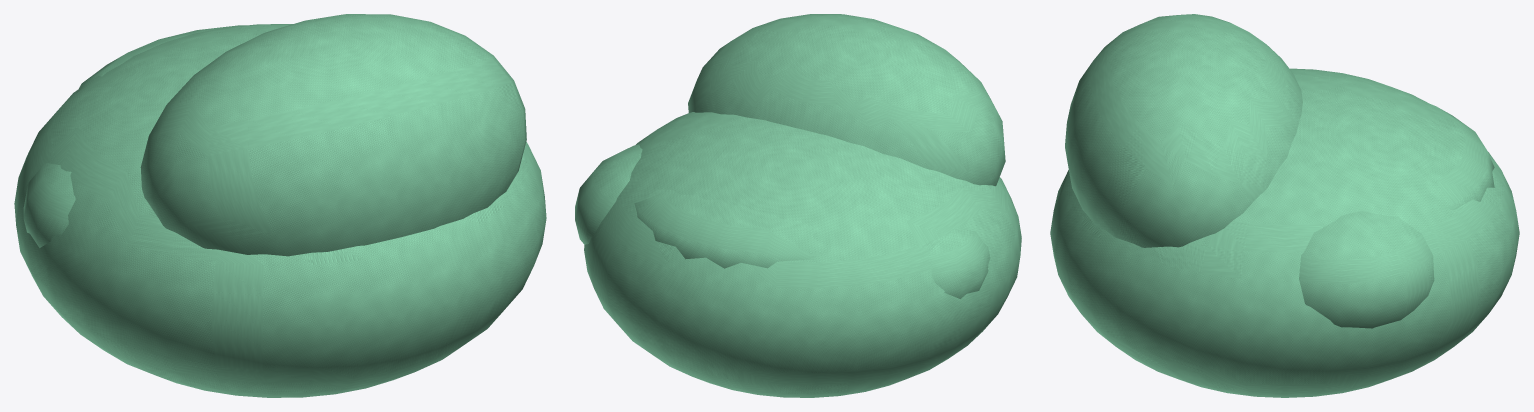
Rendered from beanbag_green.glb.
3 renders of one model, left to right at view 1: azimuth 30°, elevation 25°; view 2: azimuth 150°, elevation 25°; view 3: azimuth 270°, elevation 25°, orthographic. The views are drawn at different scales.
Visible parts, largest first — view 1: beanbag_green_body; view 2: beanbag_green_body; view 3: beanbag_green_body.
Part boxes in pixels (<box>): beanbag_green_body: <box>14,14,546,397</box>; beanbag_green_body: <box>575,14,1021,397</box>; beanbag_green_body: <box>1050,14,1519,397</box>.
Bounding box in the file's own units: 1 × 0.7681 × 1.
Materials: 3 (3 with a texture image).
